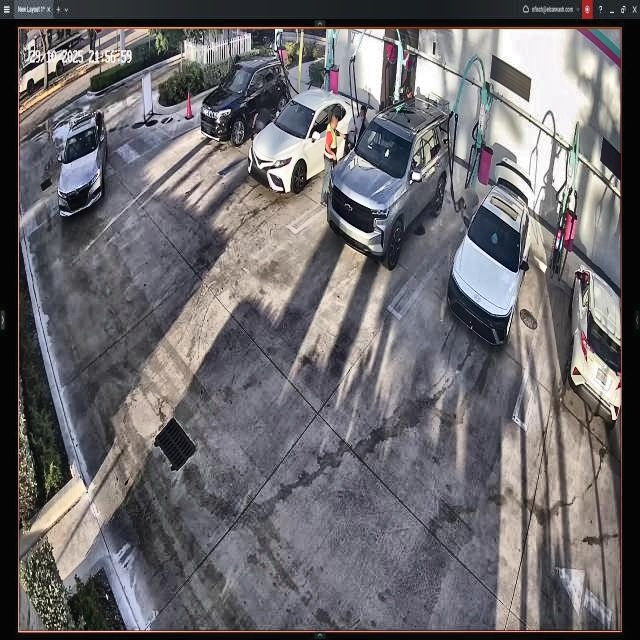Car: (327, 94, 450, 269), (448, 162, 532, 346), (250, 88, 368, 192), (201, 63, 293, 148)
